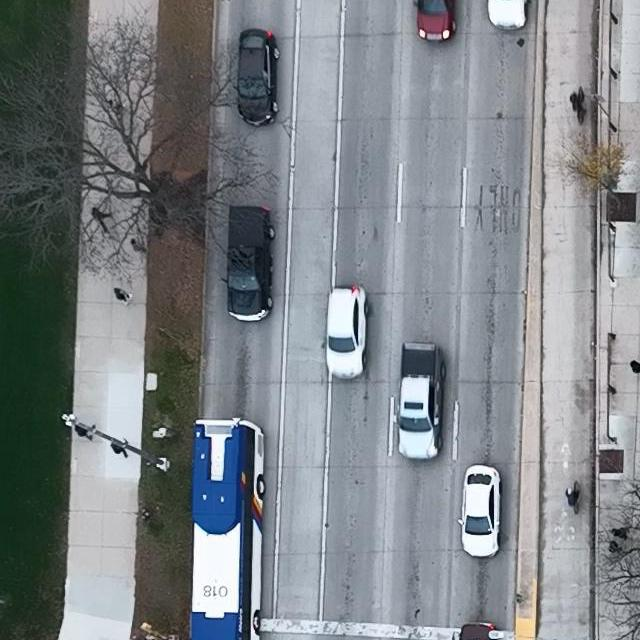car: (189, 418, 267, 640), (221, 204, 275, 322), (394, 340, 447, 459), (321, 284, 370, 380), (234, 30, 281, 127), (456, 464, 501, 558), (415, 0, 457, 42), (487, 0, 528, 29)
